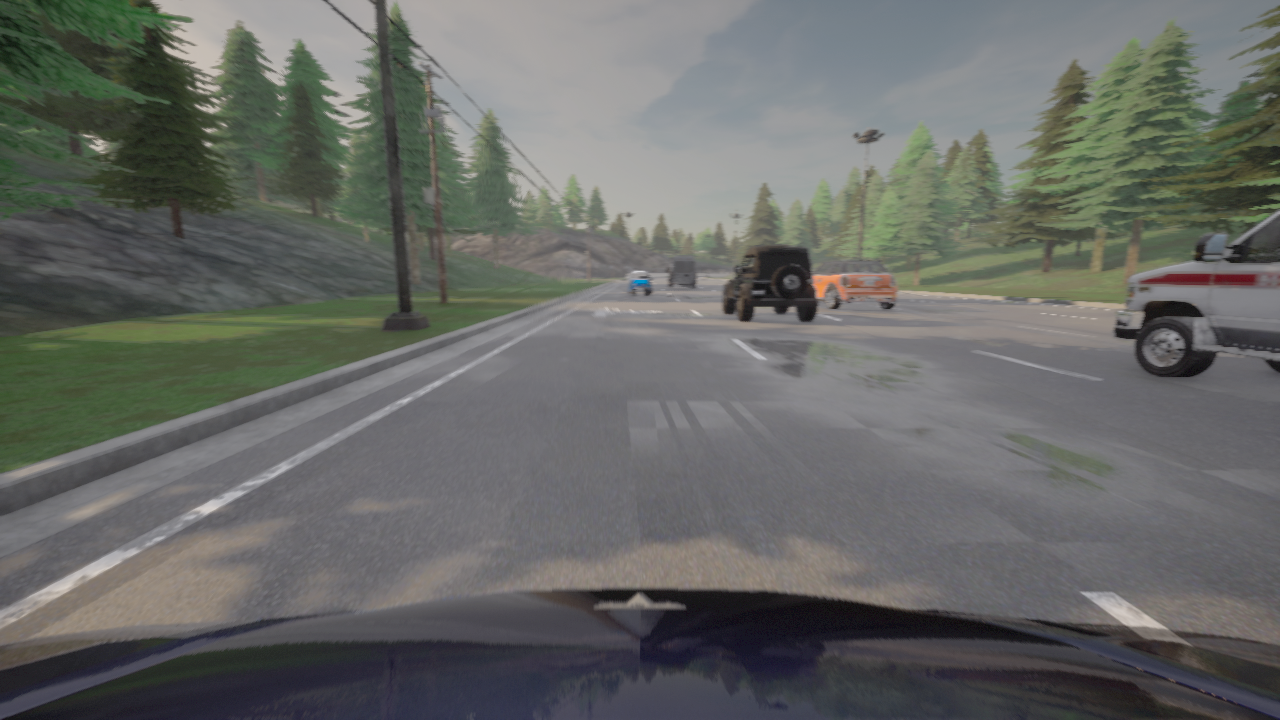cyclist: (0, 588, 1279, 719), (1113, 210, 1279, 378), (723, 246, 818, 320), (813, 256, 897, 309), (667, 257, 695, 288), (627, 271, 652, 295)
